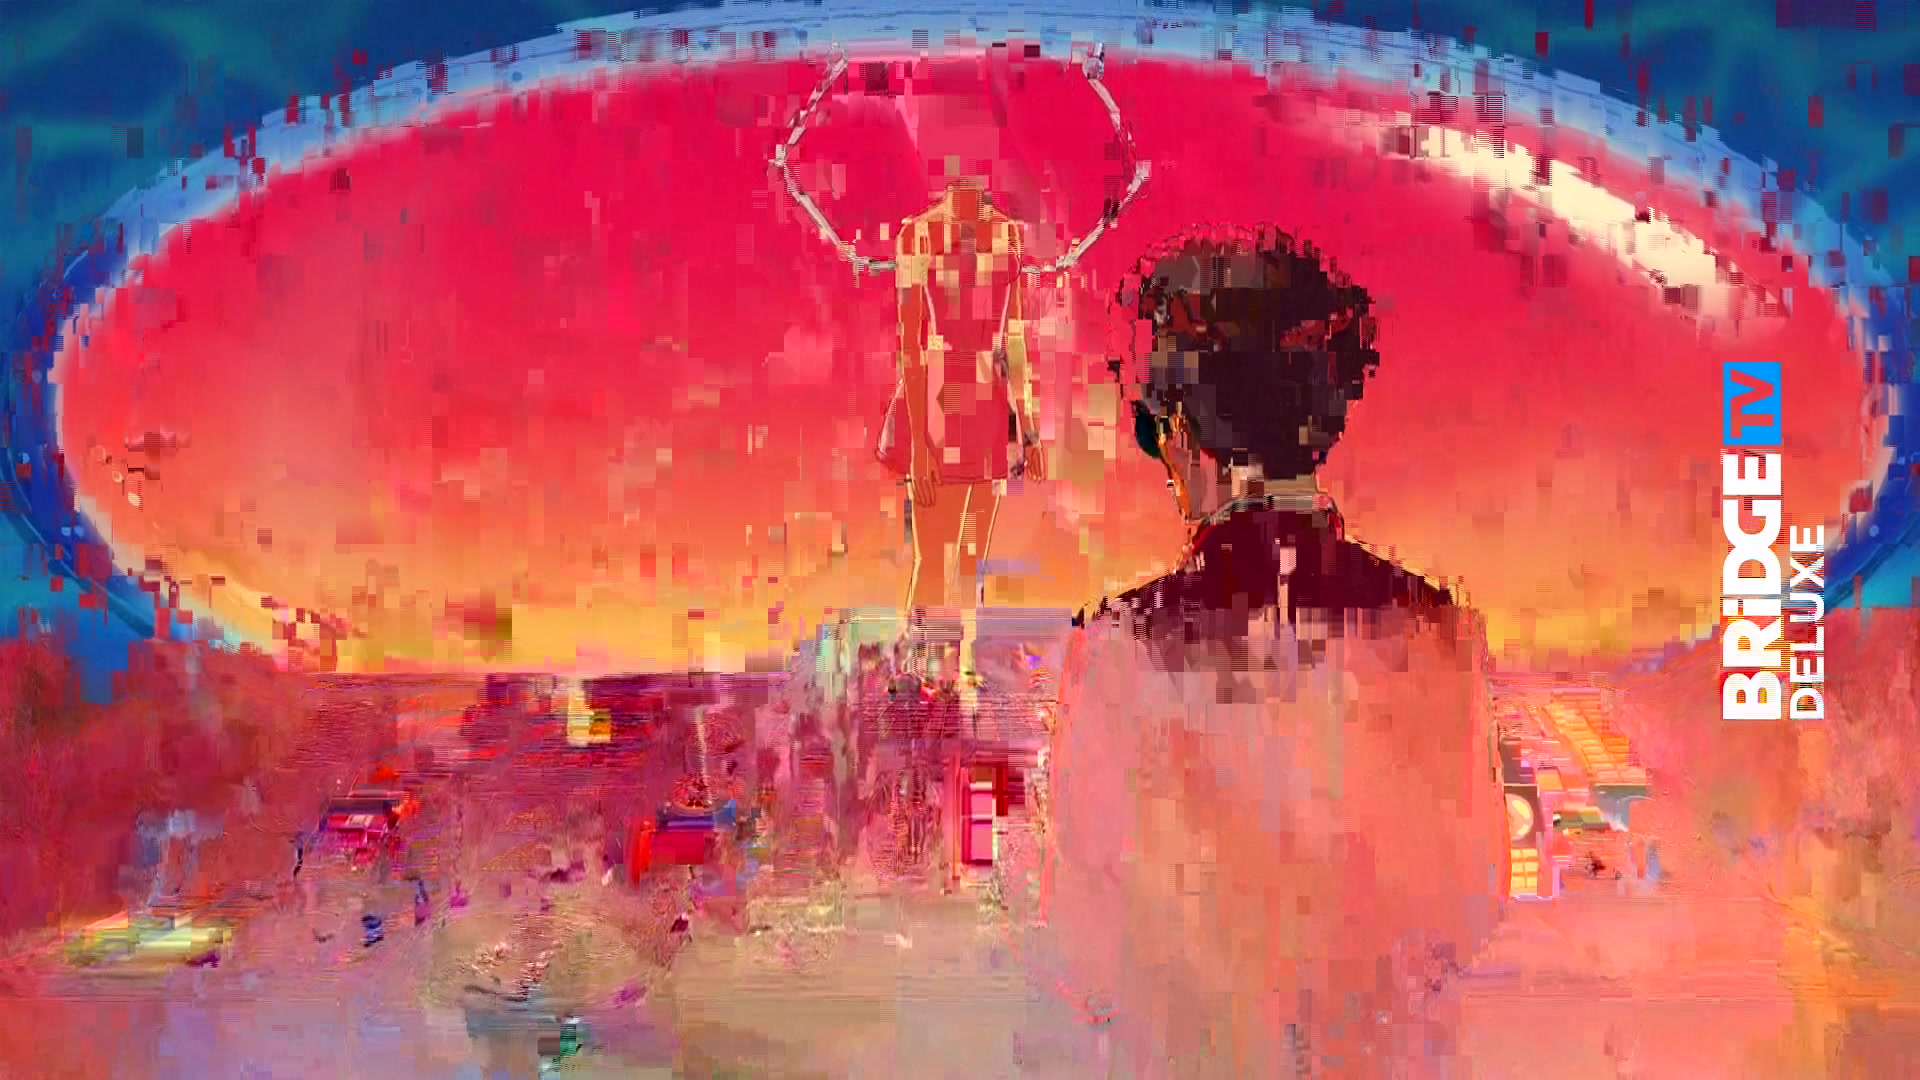Bridge_TV_Deluxe: (1718, 355, 1833, 727)
